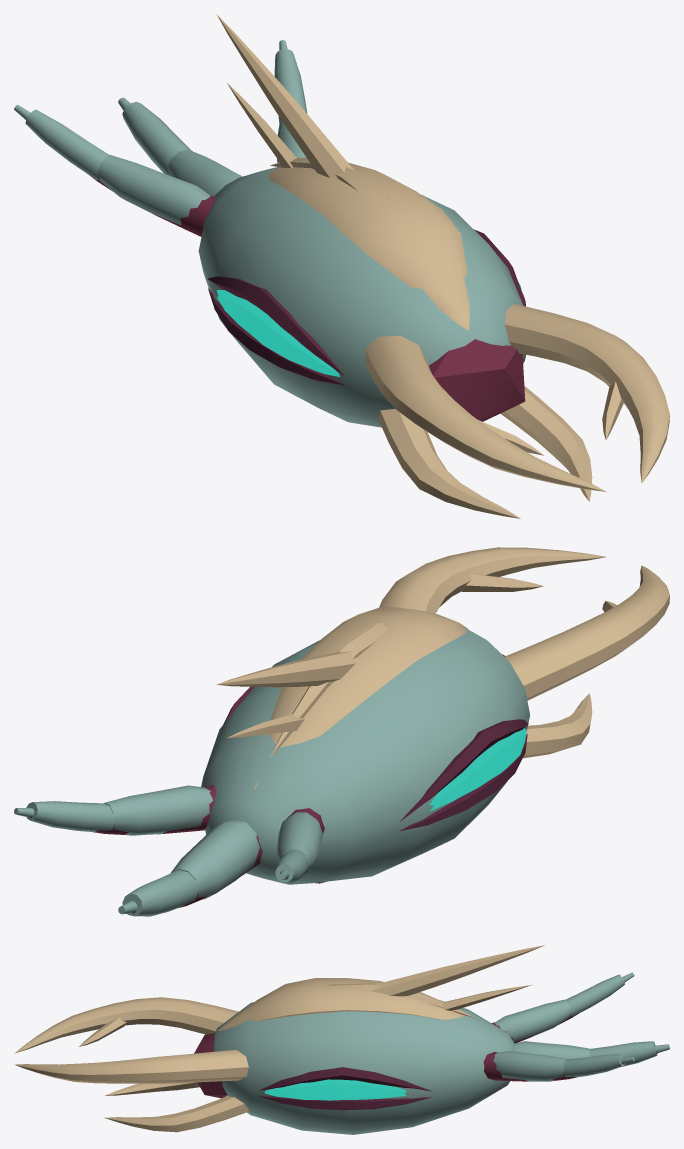
The model's file is brood_v2.glb.
3 views of the same model, one above another, from view 1: azimuth 30°, elevation 25°; view 2: azimuth 150°, elevation 25°; view 3: azimuth 270°, elevation 25° (orthographic). The views are drawn at different scales.
Visible parts, largest first — view 1: brood_v2; view 2: brood_v2; view 3: brood_v2.
Boxes of the visible parts, x1=… form: brood_v2: x1=14, y1=14, x2=669, y2=518; brood_v2: x1=14, y1=547, x2=669, y2=916; brood_v2: x1=14, y1=945, x2=669, y2=1134.
Size of the model in its own units: 1.59 by 1.59 by 5.1.
